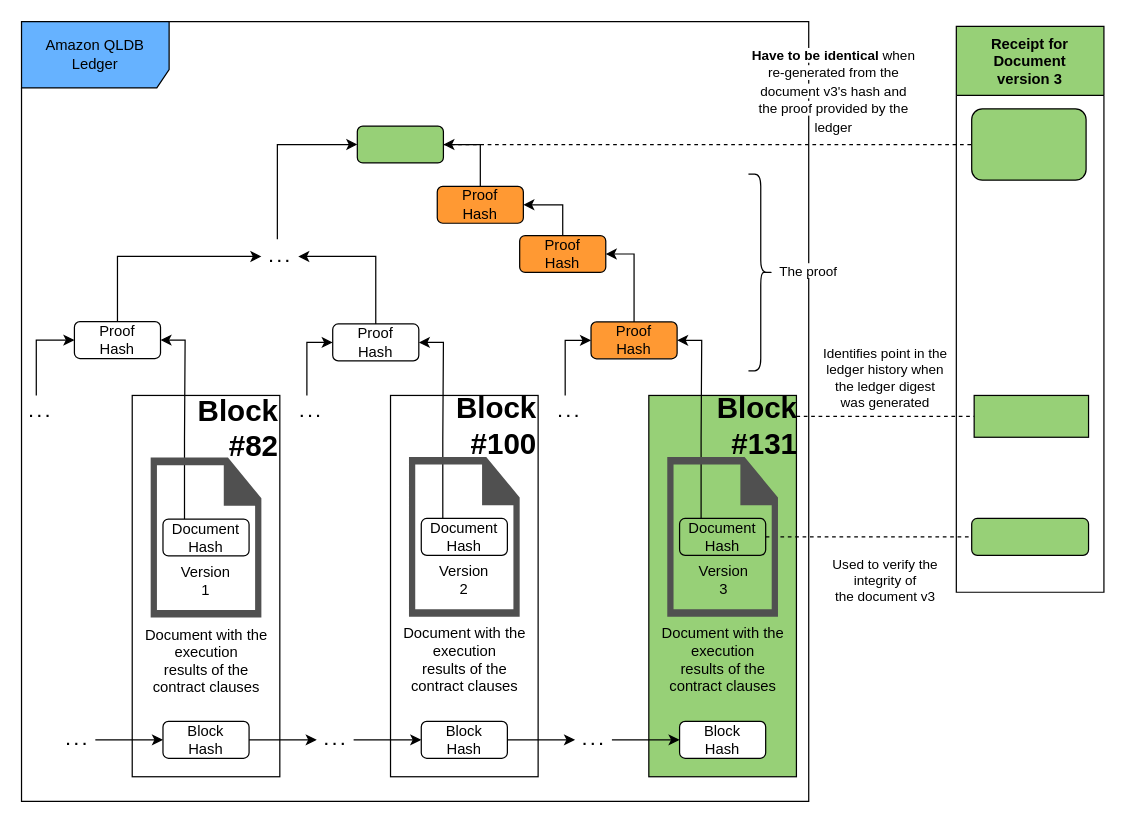
This 1125x823 diagram has some shape labels left out. Here are the shapes that lost their labels. From the top down, the centre of each, then its label:
At pixel 399 144: "Ledger Digest".
At pixel 1028 144: "Ledger Digest at the point of Block #131".
At pixel 1031 415: "Address of Block #131".
At pixel 1029 536: "Document v3 Hash".
